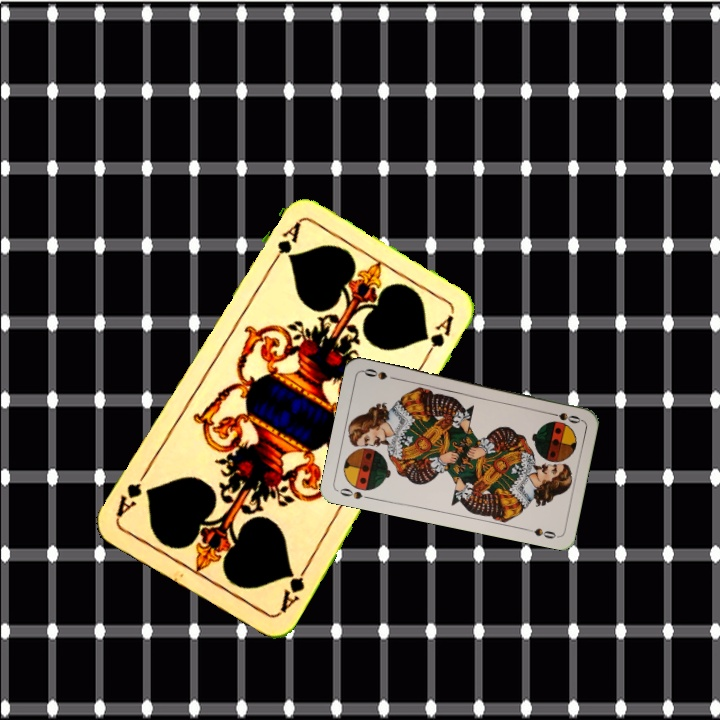GA: (264, 218, 303, 271), (275, 561, 312, 616)
SO: (543, 408, 583, 426), (335, 484, 374, 502)
